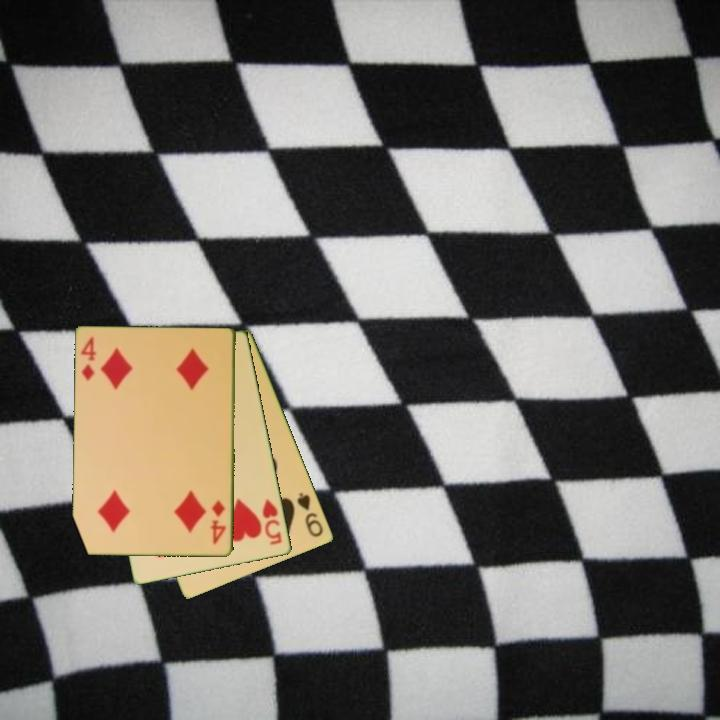4d: (207, 497, 229, 548), (78, 334, 100, 384)
5h: (259, 495, 285, 548)
9s: (294, 489, 326, 540)
